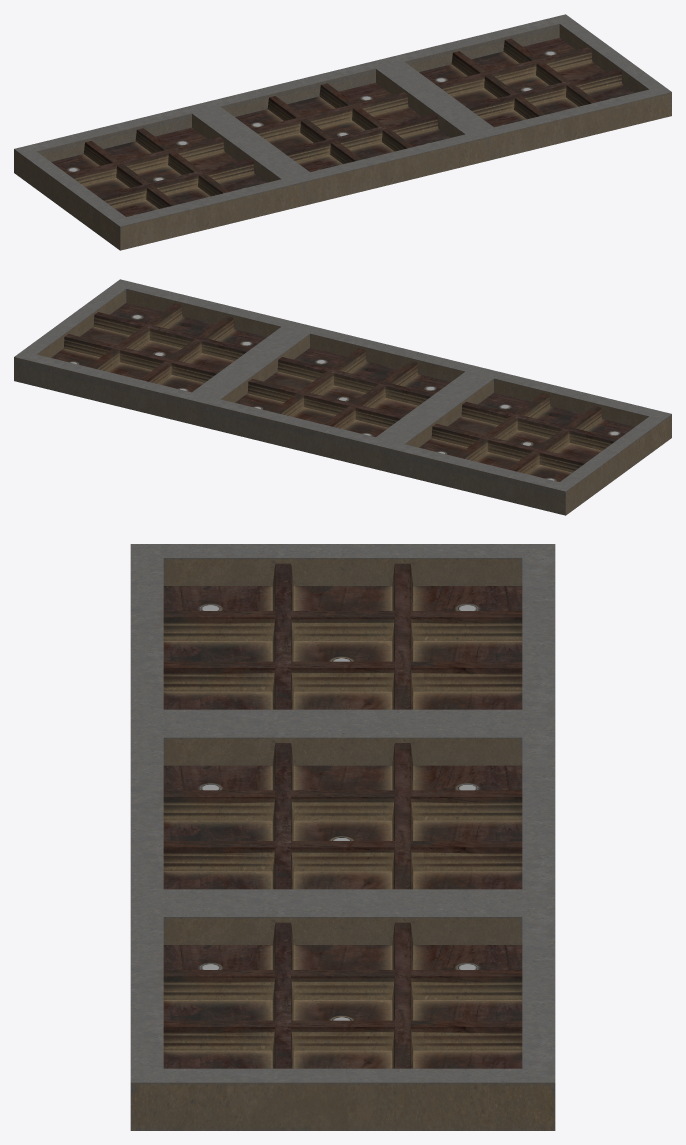
The model's file is SM_Ceiling12mTripple.FBX.
The picture shows the model from 3 angles, top to bottom: view 1: azimuth 30°, elevation 25°; view 2: azimuth 150°, elevation 25°; view 3: azimuth 270°, elevation 25°; orthographic projection. The views are drawn at different scales.
Visible parts, largest first — view 1: SM_Ceiling12mTripple; view 2: SM_Ceiling12mTripple; view 3: SM_Ceiling12mTripple.
Boxes of the visible parts, <box> form: SM_Ceiling12mTripple: <box>14,14,671,250</box>; SM_Ceiling12mTripple: <box>14,279,671,515</box>; SM_Ceiling12mTripple: <box>130,544,555,1130</box>.
Bounding box in the file's own units: 1200 × 400 × 50.
